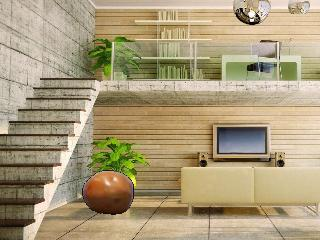potato: (80, 169, 140, 217)
